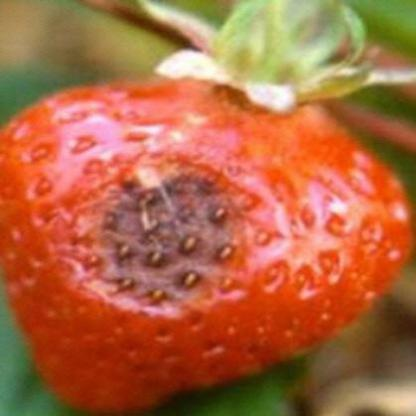Strawberry_Anthracnose_Fruit_Rot: (63, 165, 250, 309)
